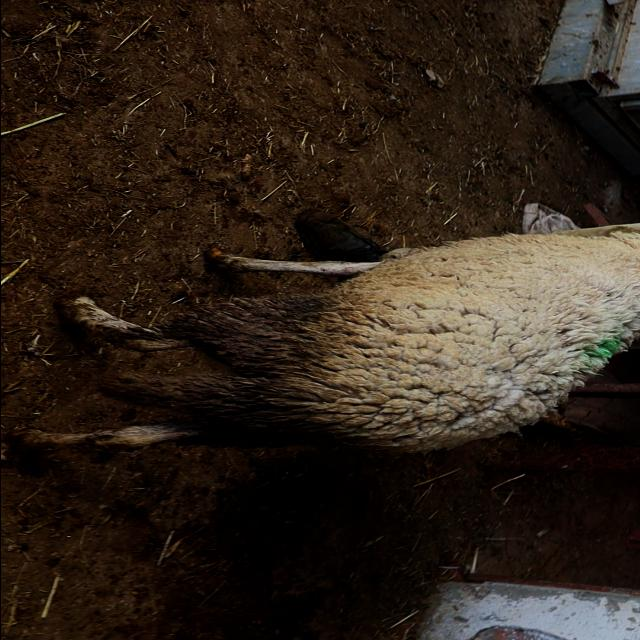Score_3: (16, 224, 640, 452)
